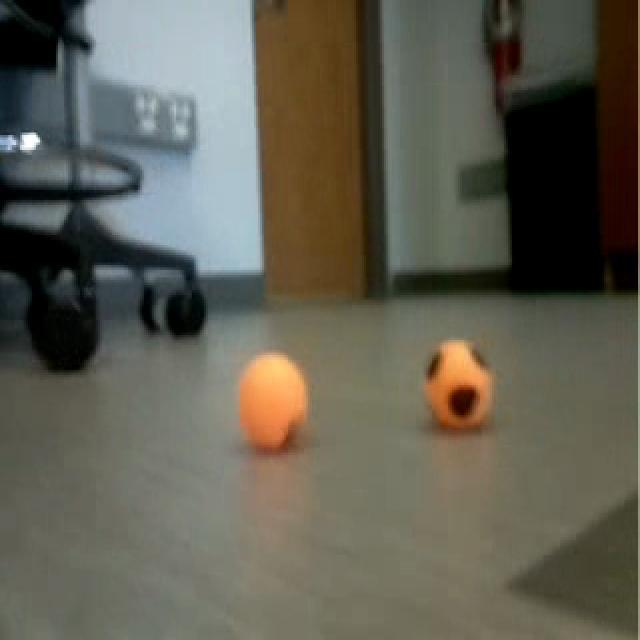oball: (228, 354, 314, 454)
